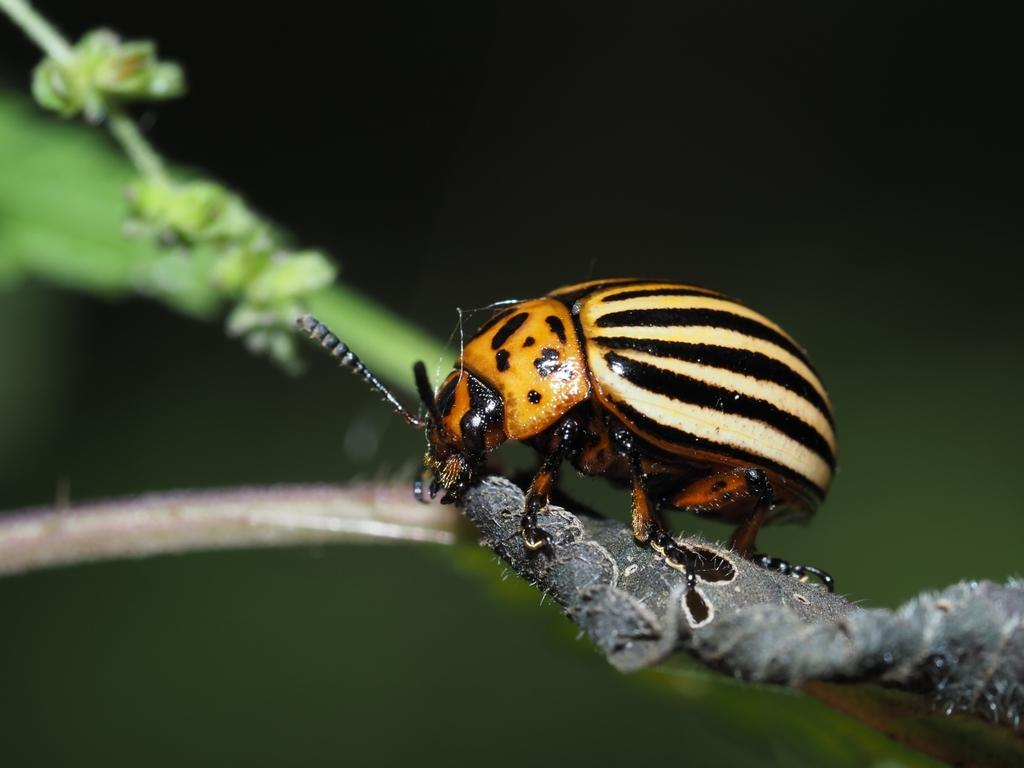potato_beetle: (264, 235, 870, 609)
